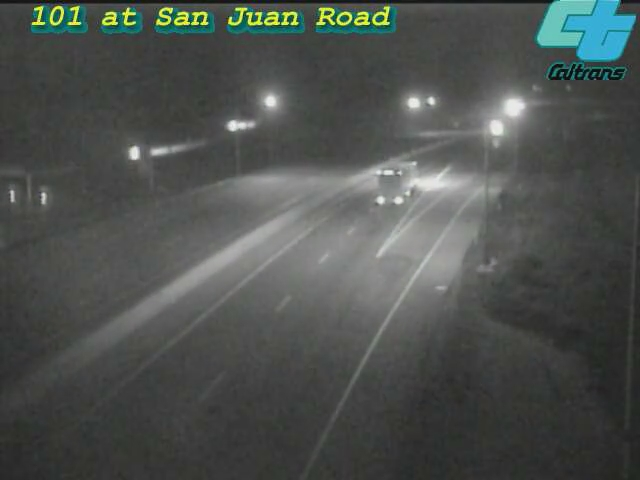vehicle: (361, 140, 441, 220), (470, 103, 520, 153), (487, 83, 537, 133)
